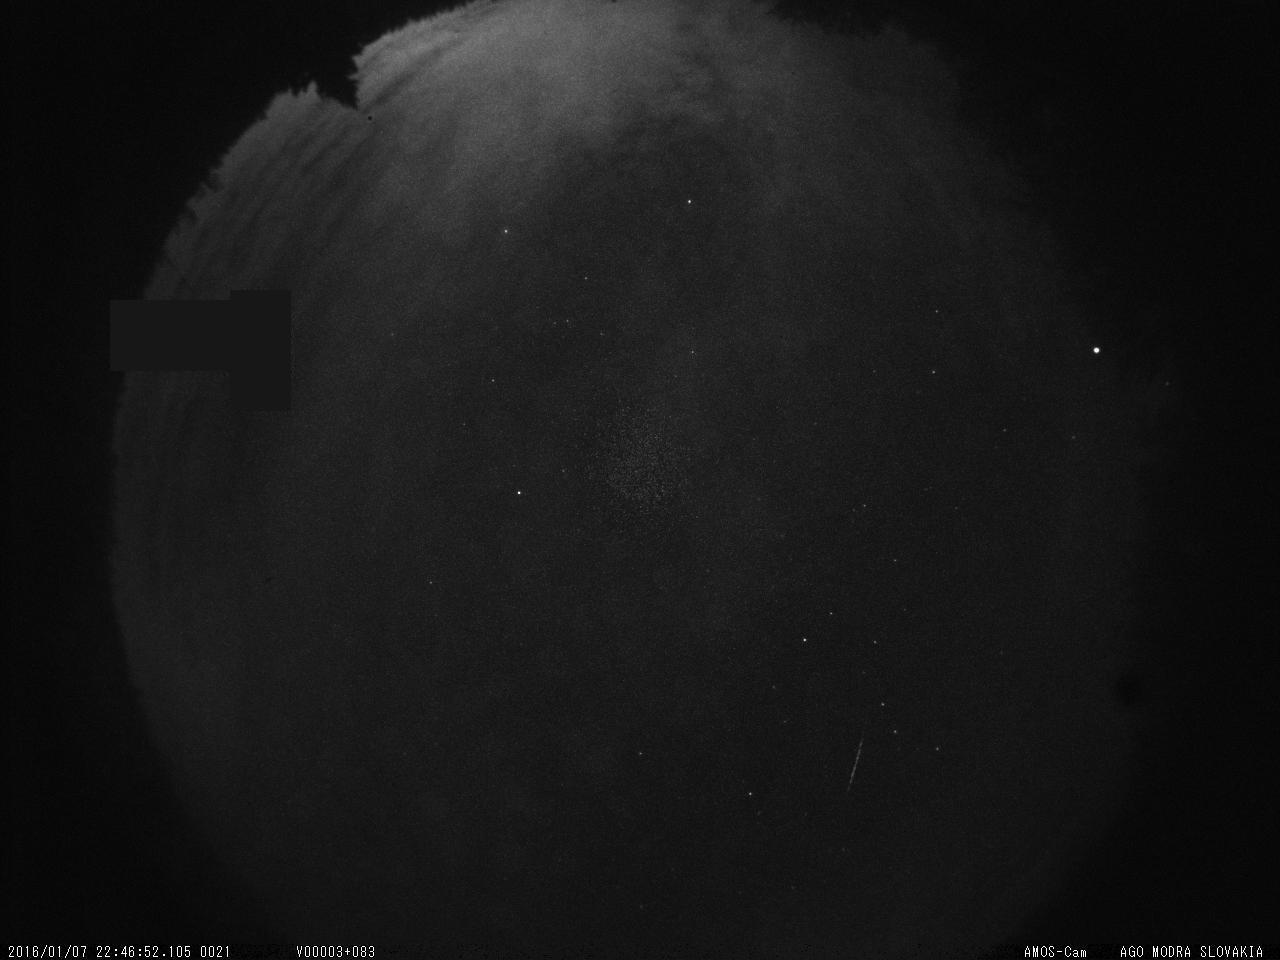meteor: (836, 721, 887, 809)
